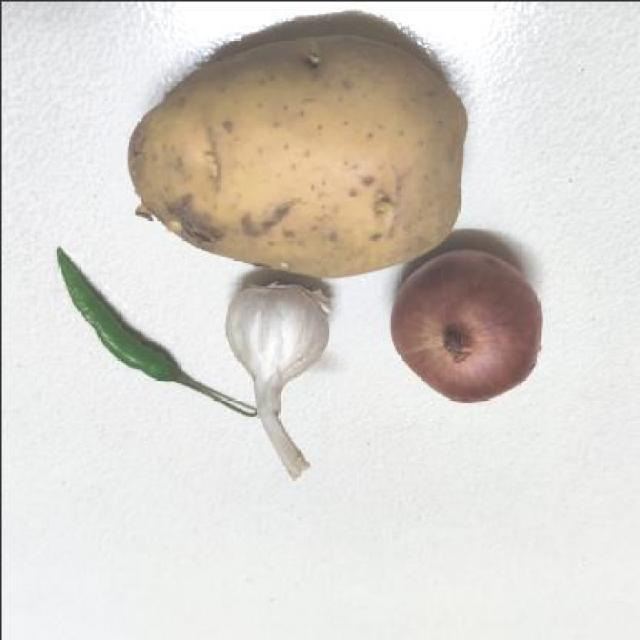Garlic: (223, 263, 325, 494)
Green Chili: (26, 246, 223, 426)
Onion: (381, 242, 554, 410)
Potato: (116, 22, 470, 270)
